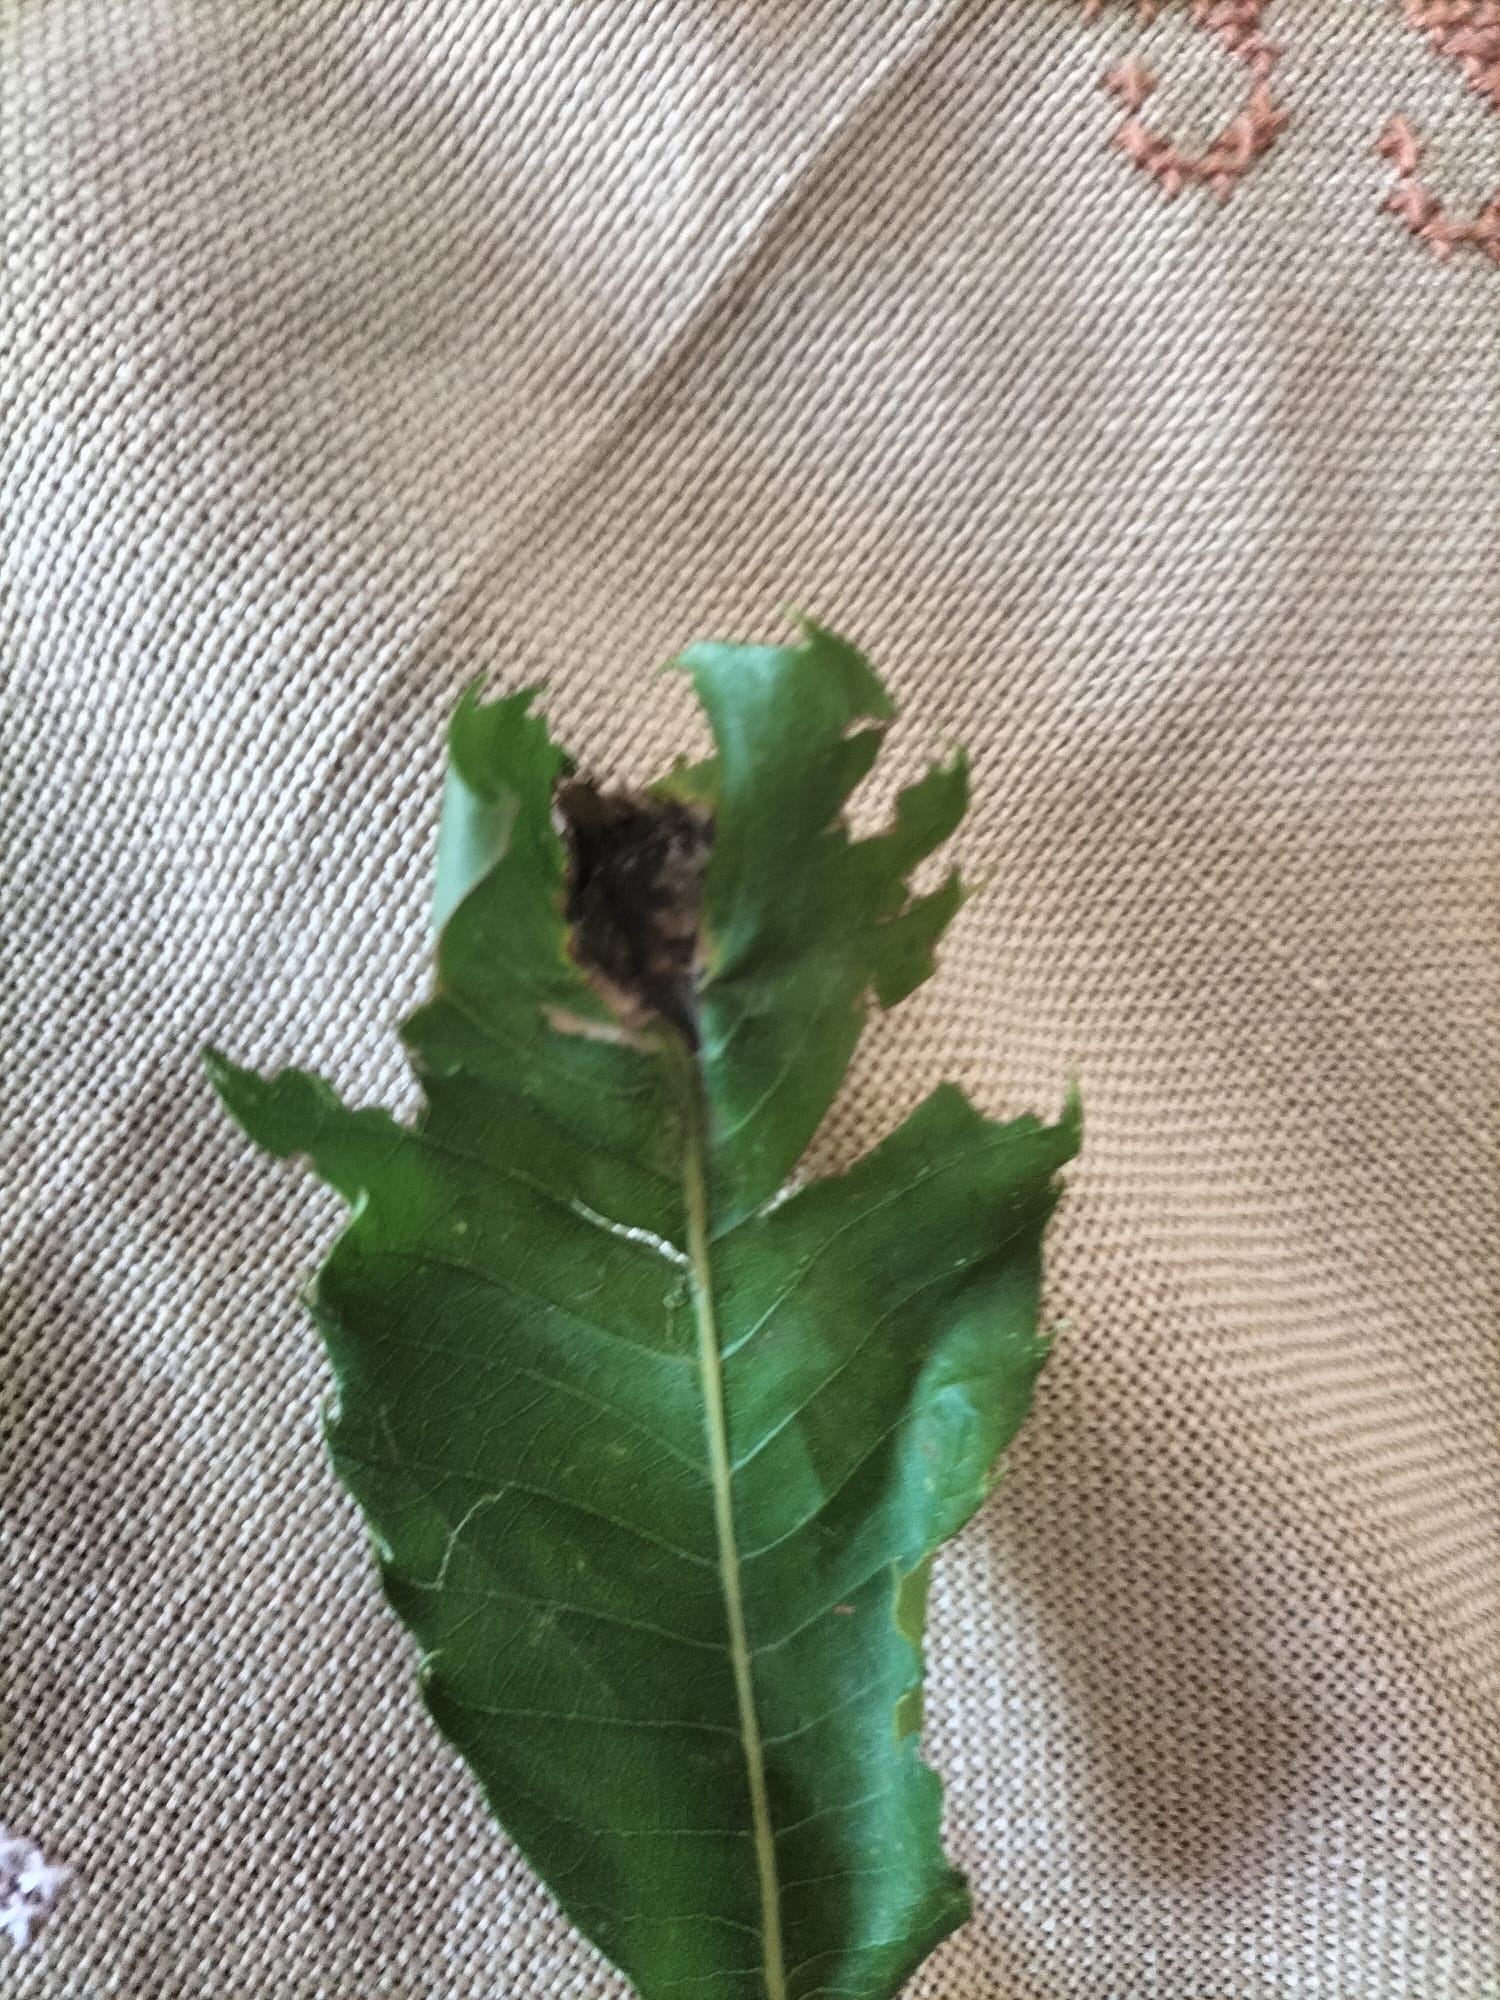galarisi: (485, 709, 810, 1422)
